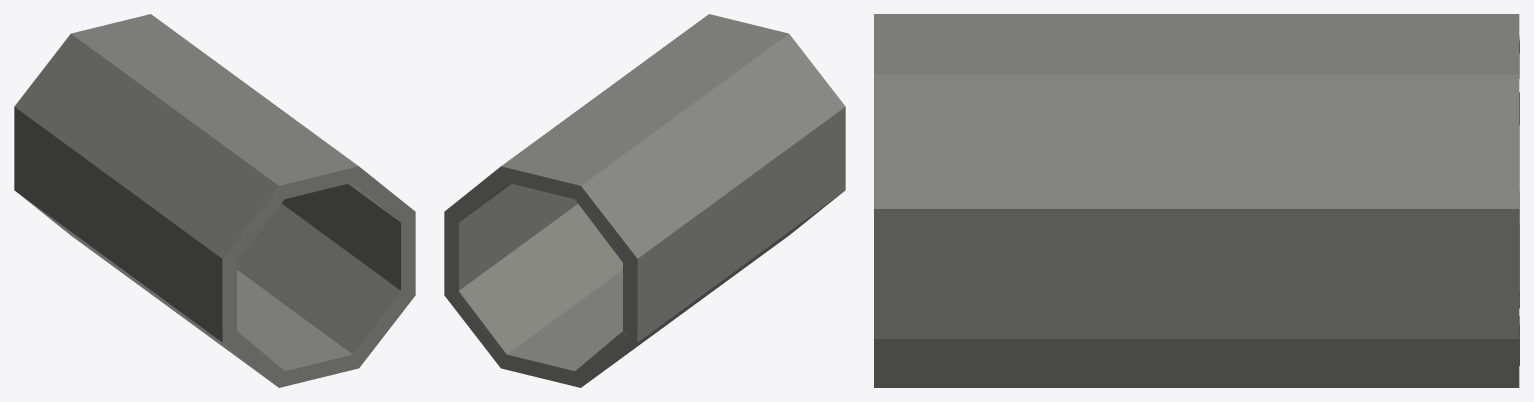
File: TREE_HOLLOW.fbx
3 renders of one model, left to right at view 1: azimuth 30°, elevation 25°; view 2: azimuth 150°, elevation 25°; view 3: azimuth 270°, elevation 25°, orthographic. The views are drawn at different scales.
Visible parts, largest first — view 1: TREE_HOLLOW; view 2: TREE_HOLLOW; view 3: TREE_HOLLOW.
Part boxes in pixels (x1,y1,x2,y2): TREE_HOLLOW: [14, 14, 415, 387]; TREE_HOLLOW: [444, 14, 845, 387]; TREE_HOLLOW: [874, 14, 1519, 387].
Size of the model in its own units: 16.57 by 16.57 by 30.94.
Materials: 1 (1 with a texture image).
